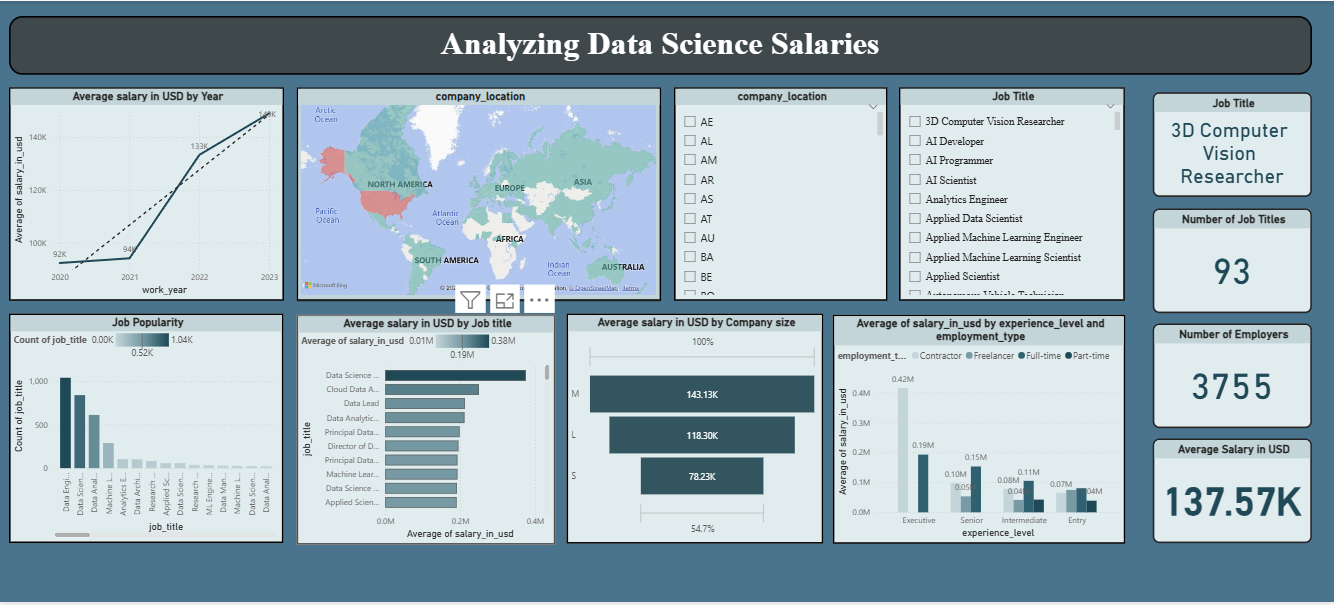

Layout of this report page (visuals, bound fields, positions):
{"tool":"powerbi","page":{"name":"Page 1","canvas":[2000,900],"ordinal":0},"visuals":[{"type":"lineChart","title":"Average salary in USD by Year","fields":{"Category":["ds_salaries (1).work_year"],"Y":["Avg(ds_salaries (1).salary_in_usd)"]},"box":[15,130,411.7,320],"z":0},{"type":"filledMap","fields":{"Category":["ds_salaries (1).company_location"]},"box":[445,130,546.7,320],"z":1000},{"type":"card","title":"Average Salary in USD","fields":{"Values":["Avg(ds_salaries (1).salary_in_usd)"]},"box":[1728.3,655,238.3,156.7],"z":2000},{"type":"textbox","box":[15,21.7,1951.7,88.3],"z":3000},{"type":"card","title":"Number of Job Titles","fields":{"Values":["Count(ds_salaries (1).job_title)"]},"box":[1728.3,311.7,238.3,156.7],"z":4000},{"type":"clusteredColumnChart","title":"Job Popularity","fields":{"Category":["ds_salaries (1).job_title"],"Y":["CountNonNull(ds_salaries (1).job_title)"]},"box":[15.7,468.6,411.4,344.3],"z":5000},{"type":"card","title":"Number of Employers","fields":{"Values":["CountNonNull(ds_salaries (1).job_title)"]},"box":[1728.3,483.3,238.3,156.7],"z":6000},{"type":"card","title":"Job Title","fields":{"Values":["Min(ds_salaries (1).job_title)"]},"box":[1728.3,136.7,238.3,156.7],"z":7000},{"type":"slicer","title":"Job Title","fields":{"Values":["ds_salaries (1).job_title"]},"box":[1348.3,130,338.3,320],"z":8000},{"type":"slicer","title":"company_location","fields":{"Values":["ds_salaries (1).company_location"]},"box":[1011.7,130,320,320],"z":9000},{"type":"funnel","title":"Average salary in USD by Company size","fields":{"Category":["ds_salaries (1).company_size"],"Y":["Avg(ds_salaries (1).salary_in_usd)"]},"box":[850,468.3,385,345],"z":10000},{"type":"clusteredBarChart","title":"Average salary in USD by Job title","fields":{"Category":["ds_salaries (1).job_title"],"Y":["Avg(ds_salaries (1).salary_in_usd)"]},"box":[445,470,388.3,345],"z":12000},{"type":"clusteredColumnChart","fields":{"Category":["ds_salaries (1).experience_level"],"Y":["Avg(ds_salaries (1).salary_in_usd)"],"Series":["ds_salaries (1).employment_type"]},"box":[1248.3,470,438.3,343.3],"z":13000}]}

Visuals, with their boxes in screenshot pixels (x1, y1, x2, y2), scaled from the page's 2000x900 canvas onto the 1334x605 screenshot:
"Average salary in USD by Year" lineChart: x1=10, y1=87, x2=285, y2=302
filledMap - ds_salaries (1).company_location: x1=297, y1=87, x2=661, y2=302
"Average Salary in USD" card: x1=1153, y1=440, x2=1312, y2=546
textbox: x1=10, y1=15, x2=1312, y2=74
"Number of Job Titles" card: x1=1153, y1=210, x2=1312, y2=315
"Job Popularity" clusteredColumnChart: x1=10, y1=315, x2=285, y2=546
"Number of Employers" card: x1=1153, y1=325, x2=1312, y2=430
"Job Title" card: x1=1153, y1=92, x2=1312, y2=197
"Job Title" slicer: x1=899, y1=87, x2=1125, y2=302
"company_location" slicer: x1=675, y1=87, x2=888, y2=302
"Average salary in USD by Company size" funnel: x1=567, y1=315, x2=824, y2=547
"Average salary in USD by Job title" clusteredBarChart: x1=297, y1=316, x2=556, y2=548
clusteredColumnChart - ds_salaries (1).experience_level x Avg(ds_salaries (1).salary_in_usd): x1=833, y1=316, x2=1125, y2=547
